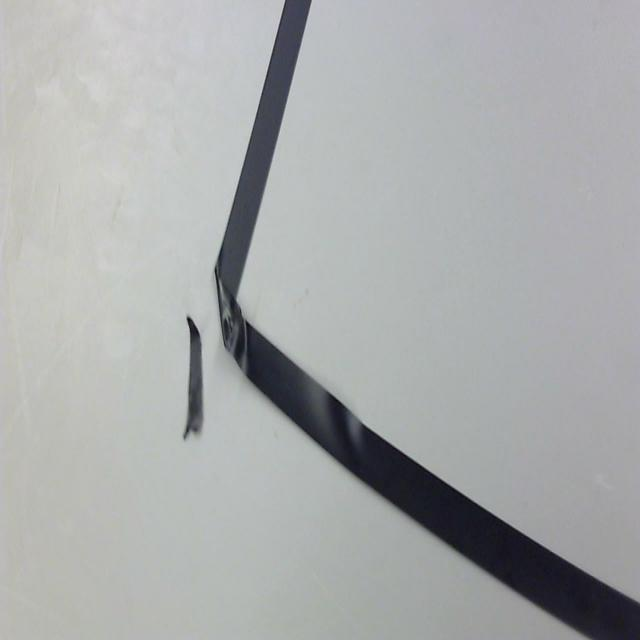tape: (206, 0, 640, 640), (172, 306, 228, 461)
